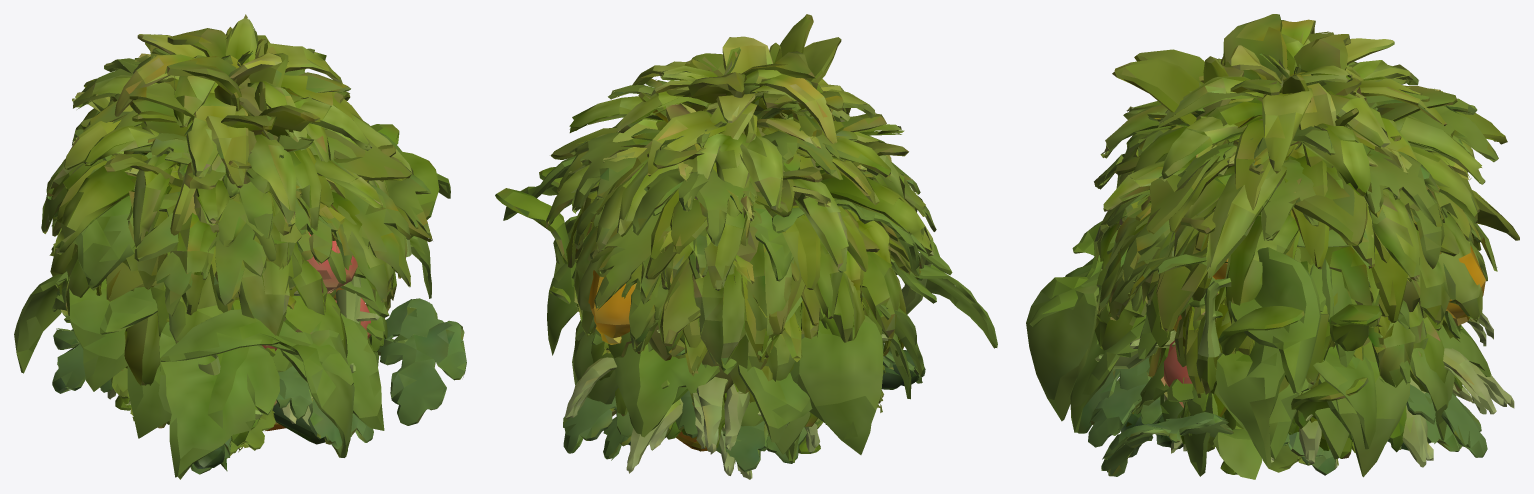
The model's file is plantes.glb.
3 views of the same model, side by side, from view 1: azimuth 30°, elevation 25°; view 2: azimuth 150°, elevation 25°; view 3: azimuth 270°, elevation 25° (orthographic). The views are drawn at different scales.
Visible parts, largest first — view 1: plant_mangue_v1_s3, plant_haricot_v1_s3, plant_papaye_v1_s3, plant_haricot_v1_s4_soif, plant_mangue_v1_s4_soif, plant_courgette_v1_s3, plant_citron_v1_s3, plant_haricot_v1_s3_soif, plant_mangue_v1_s4, plant_citron_v1_s4, plant_mangue_v1_s3_soif, plant_papaye_v1_s4 (+9 smaller); view 2: plant_mangue_v1_s3, plant_mangue_v1_s4_soif, plant_haricot_v1_s4_soif, plant_papaye_v1_s3, plant_haricot_v1_s3, plant_citron_v1_s3, plant_mangue_v1_s4, plant_citron_v1_s4, plant_mangue_v1_s3_soif, plant_peche_v1_s4, plant_haricot_v1_s3_soif, plant_ananas_v1_s4 (+12 smaller); view 3: plant_mangue_v1_s3, plant_haricot_v1_s4_soif, plant_citron_v1_s3, plant_mangue_v1_s4_soif, plant_papaye_v1_s3, plant_mangue_v1_s4, plant_haricot_v1_s3_soif, plant_haricot_v1_s3, plant_courgette_v1_s3, plant_citron_v1_s4, plant_framboise_v1_s3, plant_peche_v1_s4 (+14 smaller).
Boxes of the visible parts, x1,y1,x2,y2 form: plant_mangue_v1_s3: [41, 14, 413, 385]; plant_haricot_v1_s3: [51, 152, 389, 479]; plant_papaye_v1_s3: [81, 48, 410, 316]; plant_haricot_v1_s4_soif: [14, 129, 450, 419]; plant_mangue_v1_s4_soif: [46, 51, 388, 308]; plant_courgette_v1_s3: [52, 298, 466, 474]; plant_citron_v1_s3: [84, 34, 432, 301]; plant_haricot_v1_s3_soif: [127, 309, 354, 457]; plant_mangue_v1_s4: [46, 34, 363, 289]; plant_citron_v1_s4: [52, 27, 383, 287]; plant_mangue_v1_s3_soif: [57, 40, 368, 312]; plant_papaye_v1_s4: [126, 139, 354, 283]; plant_mangue_v1_s3: [546, 65, 934, 393]; plant_mangue_v1_s4_soif: [557, 47, 904, 381]; plant_haricot_v1_s4_soif: [503, 156, 931, 462]; plant_papaye_v1_s3: [570, 78, 936, 310]; plant_haricot_v1_s3: [572, 200, 997, 442]; plant_citron_v1_s3: [550, 14, 920, 358]; plant_mangue_v1_s4: [566, 36, 879, 362]; plant_citron_v1_s4: [587, 37, 910, 347]; plant_mangue_v1_s3_soif: [581, 74, 891, 271]; plant_peche_v1_s4: [602, 102, 830, 451]; plant_haricot_v1_s3_soif: [572, 234, 952, 454]; plant_ananas_v1_s4: [565, 329, 752, 479]; plant_mangue_v1_s3: [1094, 39, 1485, 394]; plant_haricot_v1_s4_soif: [1095, 247, 1410, 479]; plant_citron_v1_s3: [1112, 14, 1519, 392]; plant_mangue_v1_s4_soif: [1119, 33, 1477, 349]; plant_papaye_v1_s3: [1094, 61, 1498, 314]; plant_mangue_v1_s4: [1161, 38, 1463, 322]; plant_haricot_v1_s3_soif: [1026, 216, 1454, 477]; plant_haricot_v1_s3: [1029, 229, 1491, 459]; plant_courgette_v1_s3: [1088, 377, 1462, 476]; plant_citron_v1_s4: [1113, 20, 1485, 346]; plant_framboise_v1_s3: [1146, 284, 1382, 441]; plant_peche_v1_s4: [1123, 87, 1471, 407].
Size of the model in its own units: 0.7548 by 0.6234 by 0.7276.
Materials: 59 (59 with a texture image).
